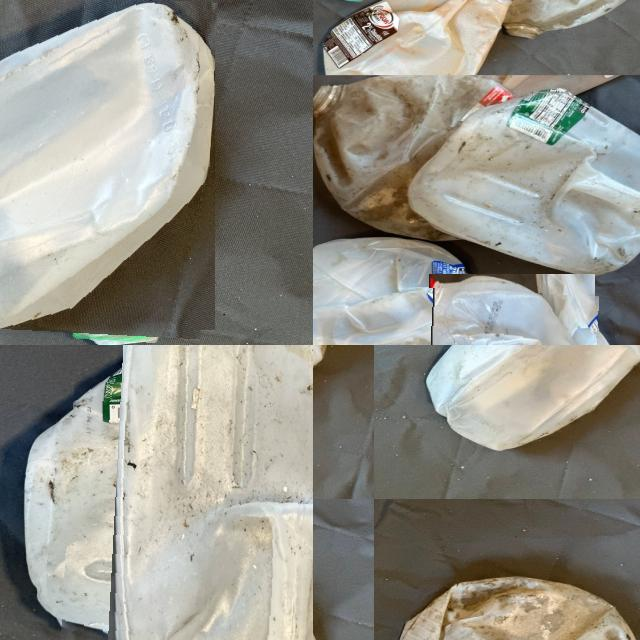milk-jug: (64, 345, 313, 640), (0, 0, 214, 339), (406, 88, 640, 268), (313, 73, 493, 241), (422, 345, 640, 453), (313, 243, 489, 345), (397, 574, 640, 640), (313, 0, 507, 77), (408, 289, 615, 345), (471, 0, 640, 44)
